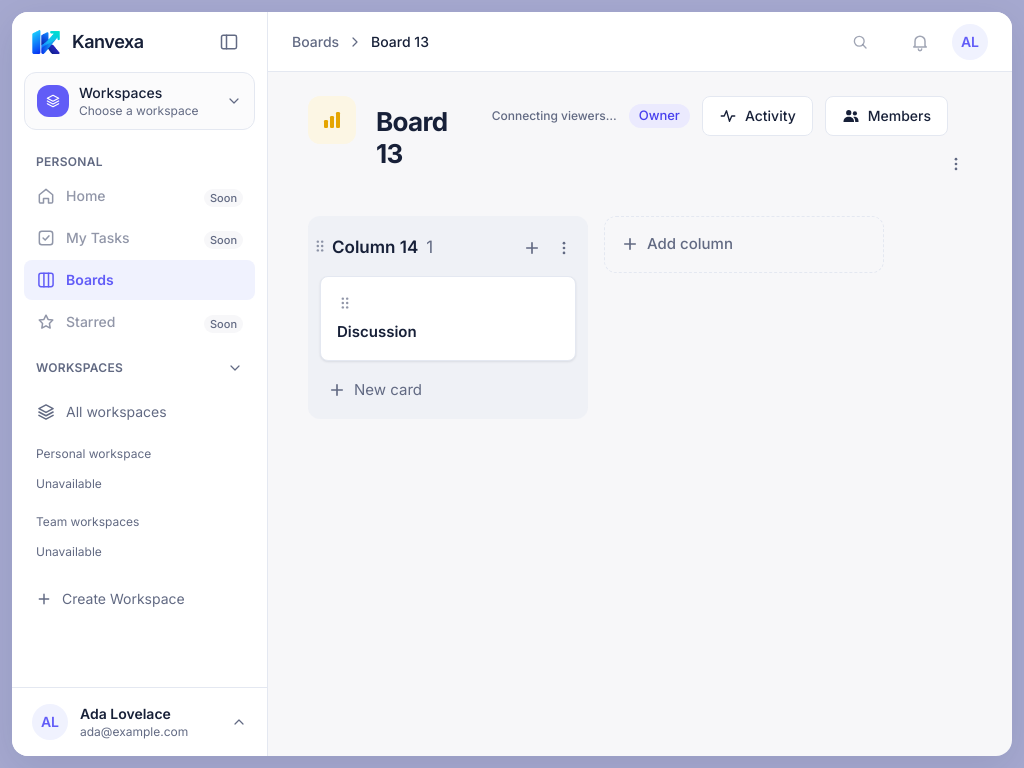
it: card comments › offers retry on failure without hiding the card
Click the button "Discussion" at (377, 332), box [337, 321, 417, 344]
(page scrolled)
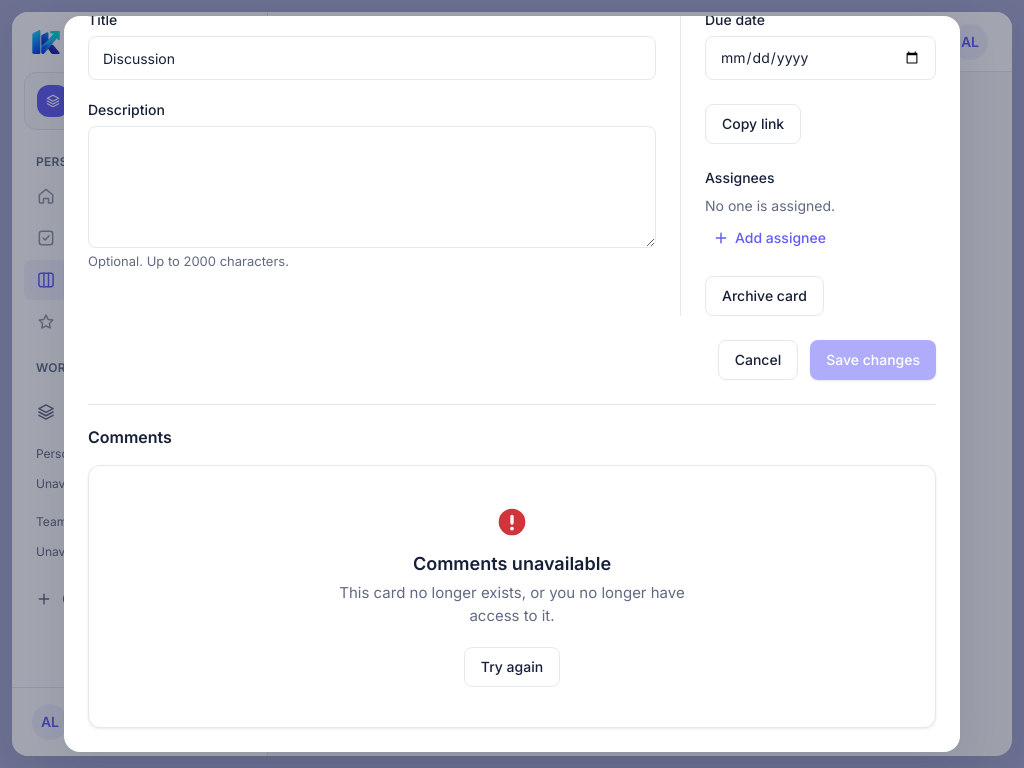
Result: the heading "Comments unavailable" is shown at [413, 550, 611, 578]
Click the button "Try again" at (512, 667), box [464, 647, 560, 687]
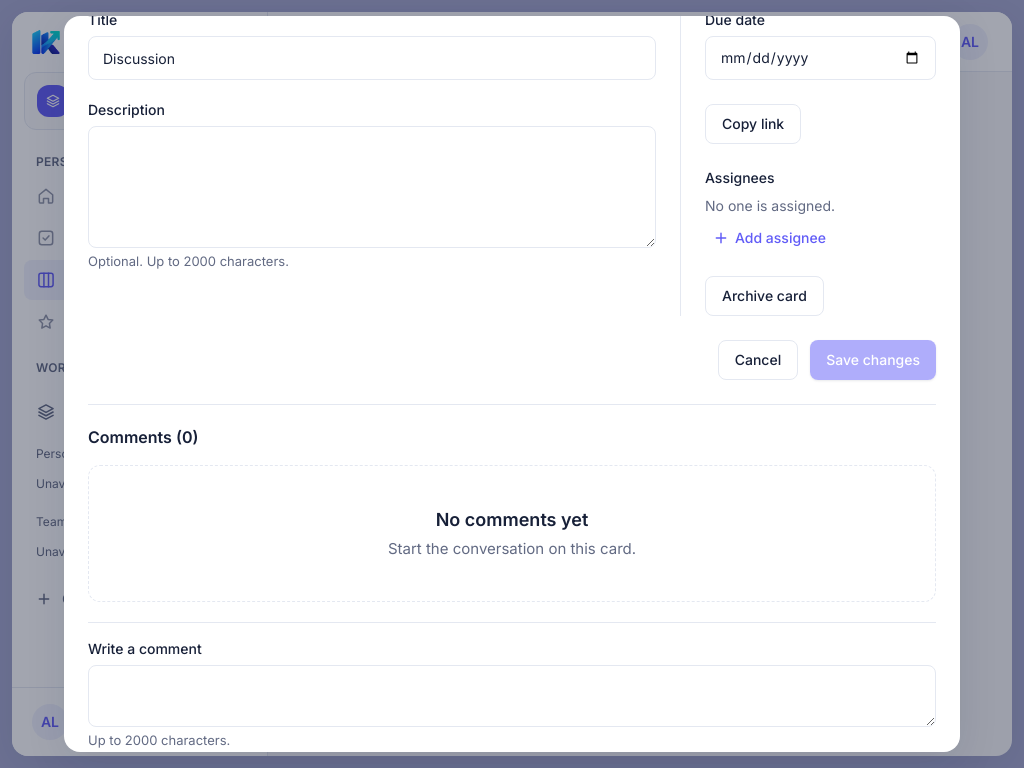
Result: the heading "No comments yet" is shown at [436, 506, 588, 534]
